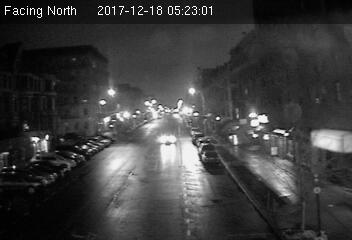car: (157, 133, 178, 145), (200, 151, 220, 163)
